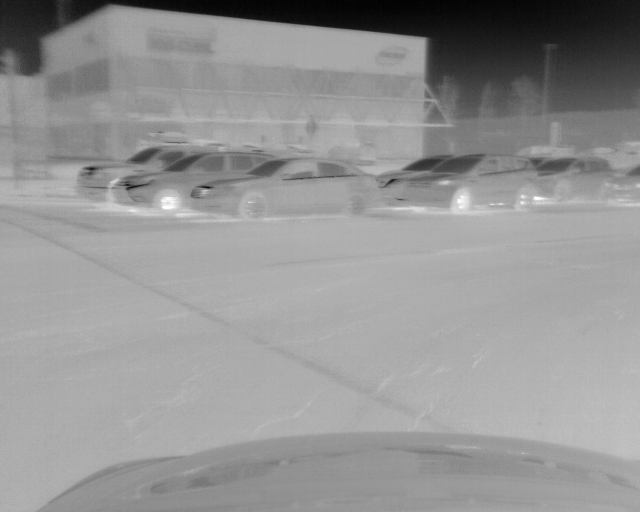car: (190, 156, 379, 217), (110, 154, 268, 214), (400, 155, 535, 210), (76, 144, 191, 198), (376, 154, 452, 206), (535, 155, 608, 202), (608, 162, 640, 203)
